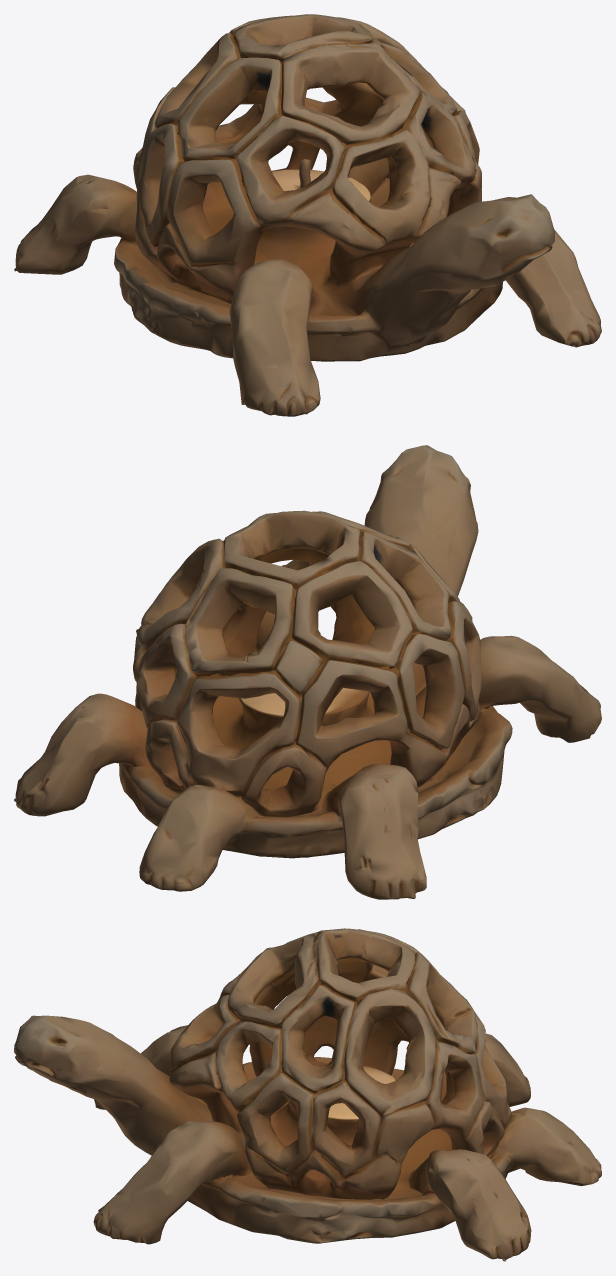
Rendered from Turtle.glb.
3 views of the same model, one above another, from view 1: azimuth 30°, elevation 25°; view 2: azimuth 150°, elevation 25°; view 3: azimuth 270°, elevation 25° (orthographic). The views are drawn at different scales.
Parts seen in each view (by area): view 1: tripo_node_9386b22f-05bd-4ee0-976e-d8c2786642b2; view 2: tripo_node_9386b22f-05bd-4ee0-976e-d8c2786642b2; view 3: tripo_node_9386b22f-05bd-4ee0-976e-d8c2786642b2.
Part boxes in pixels (box(x1,y1,x2,y2)): tripo_node_9386b22f-05bd-4ee0-976e-d8c2786642b2: box(14, 14, 601, 416); tripo_node_9386b22f-05bd-4ee0-976e-d8c2786642b2: box(14, 445, 601, 899); tripo_node_9386b22f-05bd-4ee0-976e-d8c2786642b2: box(14, 928, 601, 1261).
Bounding box in the file's own units: 0.7141 × 0.4373 × 1.
Materials: 1 (1 with a texture image).
